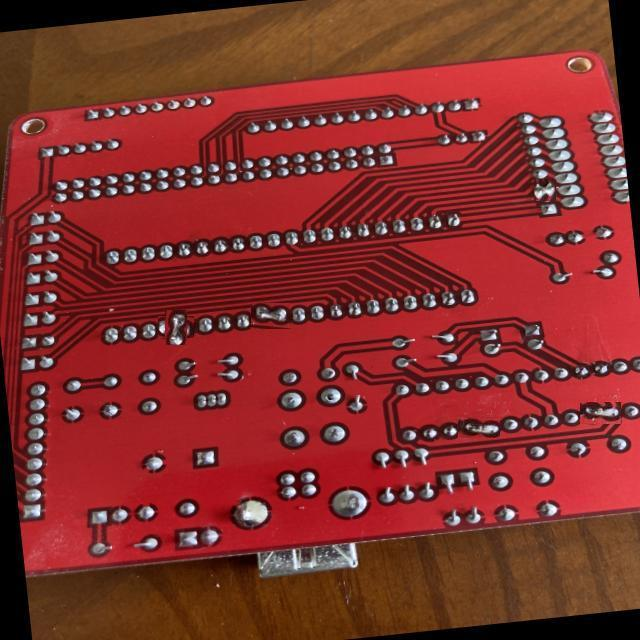damged: (251, 303, 291, 329), (580, 402, 621, 424), (458, 417, 500, 438), (162, 313, 191, 342), (534, 179, 556, 202)
